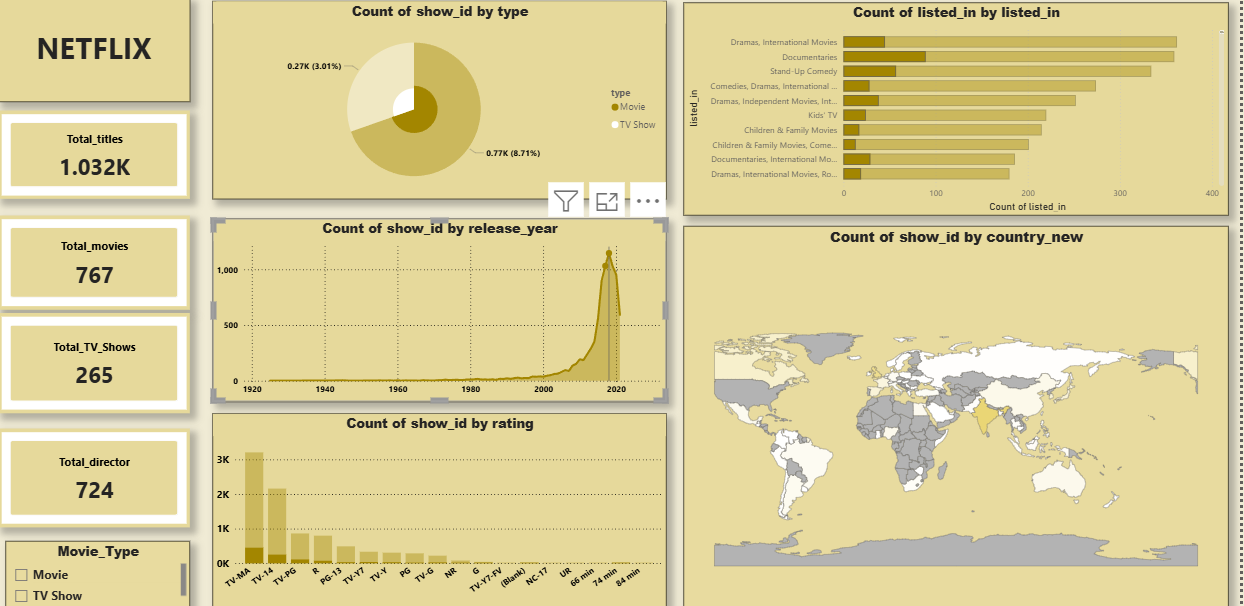

The dashboard page shown, as its layout file describes it:
{"tool":"powerbi","page":{"name":"Page 1","canvas":[1800,900],"ordinal":0},"visuals":[{"type":"textbox","box":[0,0,278.5,150.6],"z":0},{"type":"cardVisual","fields":{"Data":["netflix_titles.Total_titles"]},"box":[0,163,278.3,128.3],"z":1000},{"type":"cardVisual","fields":{"Data":["netflix_titles.Total_movies"]},"box":[0,315.2,278.3,137],"z":2000},{"type":"cardVisual","fields":{"Data":["netflix_titles.Total_TV_Shows"]},"box":[0,456.5,278.3,145.7],"z":3000},{"type":"pieChart","fields":{"Category":["netflix_titles.type"],"Y":["CountNonNull(netflix_titles.show_id)"]},"box":[310.9,4.3,658,287.5],"z":4000},{"type":"clusteredBarChart","fields":{"Category":["netflix_titles.listed_in"],"Y":["CountNonNull(netflix_titles.listed_in)"]},"box":[994.4,6.4,790,308.8],"z":5000},{"type":"areaChart","fields":{"Category":["netflix_titles.release_year"],"Y":["CountNonNull(netflix_titles.show_id)"]},"box":[310.9,319.4,658,266.2],"z":6000},{"type":"lineStackedColumnComboChart","fields":{"Y":["CountNonNull(netflix_titles.show_id)"],"Category":["netflix_titles.rating"]},"box":[310.9,602.6,658,281.1],"z":7000},{"type":"shapeMap","fields":{"Category":["netflix_titles.country_new"],"Value":["CountNonNull(netflix_titles.show_id)"]},"box":[994.4,330,790,553.6],"z":7001},{"type":"cardVisual","fields":{"Data":["netflix_titles.Total_director"]},"box":[0,623.9,278.3,143.5],"z":7002},{"type":"slicer","title":"Movie_Type","fields":{"Values":["netflix_titles.type"]},"box":[10.9,787,267.4,97.8],"z":7003}]}

Visuals, with their boxes in screenshot pixels (x1, y1, x2, y2), scaled from the page's 1800x900 canvas onto the 1244x606 screenshot:
textbox: region(0, 0, 192, 101)
cardVisual - netflix_titles.Total_titles: region(0, 110, 192, 196)
cardVisual - netflix_titles.Total_movies: region(0, 212, 192, 304)
cardVisual - netflix_titles.Total_TV_Shows: region(0, 307, 192, 405)
pieChart - netflix_titles.type x CountNonNull(netflix_titles.show_id): region(215, 3, 670, 196)
clusteredBarChart - netflix_titles.listed_in x CountNonNull(netflix_titles.listed_in): region(687, 4, 1233, 212)
areaChart - netflix_titles.release_year x CountNonNull(netflix_titles.show_id): region(215, 215, 670, 394)
lineStackedColumnComboChart - CountNonNull(netflix_titles.show_id) x netflix_titles.rating: region(215, 406, 670, 595)
shapeMap - netflix_titles.country_new x CountNonNull(netflix_titles.show_id): region(687, 222, 1233, 595)
cardVisual - netflix_titles.Total_director: region(0, 420, 192, 517)
"Movie_Type" slicer: region(8, 530, 192, 596)
